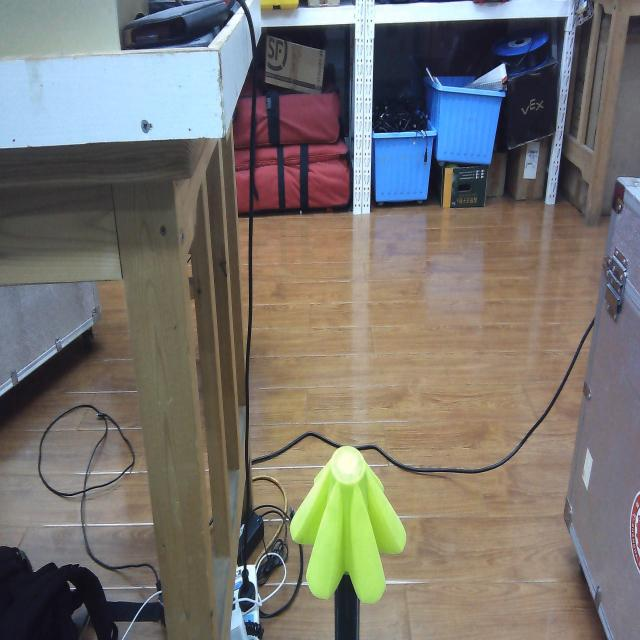Yellow-Stake-Head: (290, 445, 407, 604)
